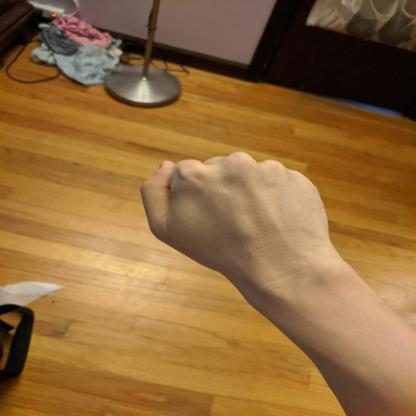A: (137, 150, 335, 280)
